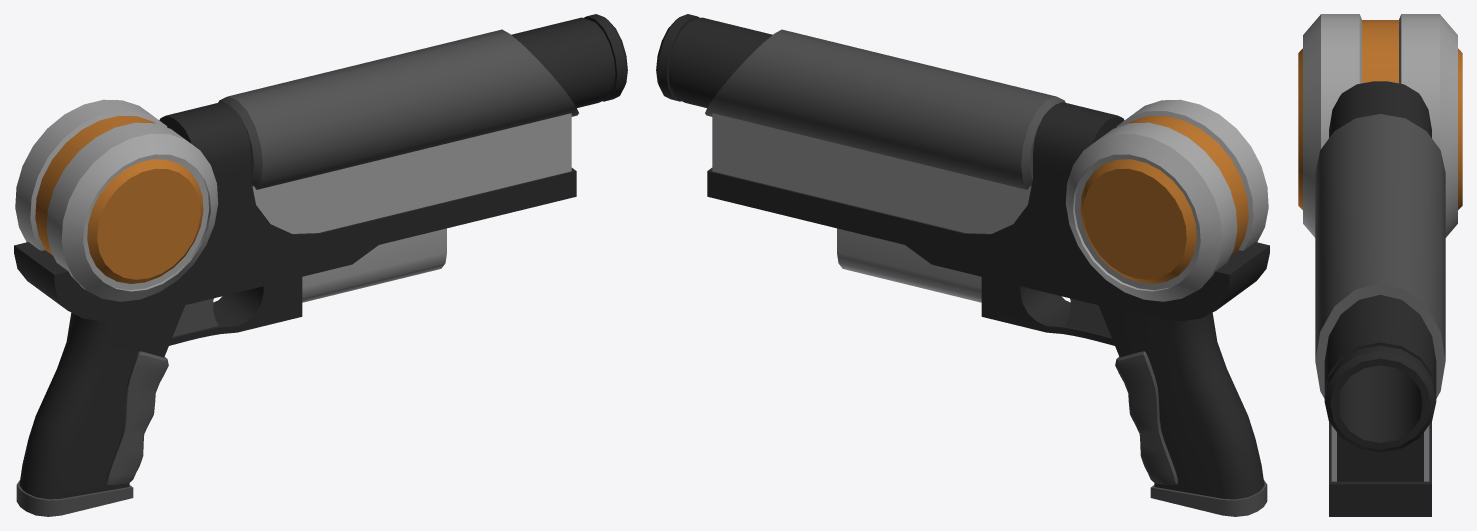
File: Scifi Pistol.glb
3 renders of one model, left to right at view 1: azimuth 30°, elevation 25°; view 2: azimuth 150°, elevation 25°; view 3: azimuth 270°, elevation 25°, orthographic. The views are drawn at different scales.
Visible parts, largest first — view 1: Pistol_1; view 2: Pistol_1; view 3: Pistol_1.
Part boxes in pixels (x1,y1,x2,y2): Pistol_1: (14,14,627,516); Pistol_1: (656,14,1269,516); Pistol_1: (1298,14,1462,516).
Bounding box in the file's own units: 0.9344 × 0.5605 × 0.1782.
